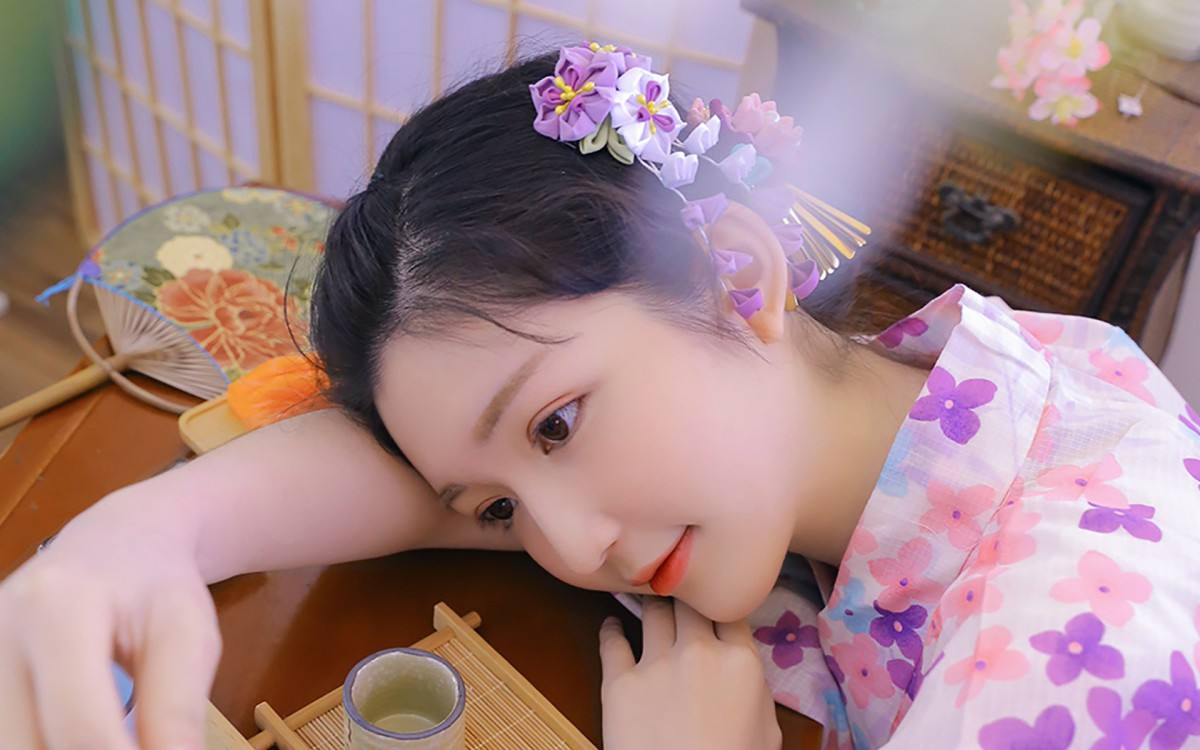person: (280, 82, 1031, 725)
